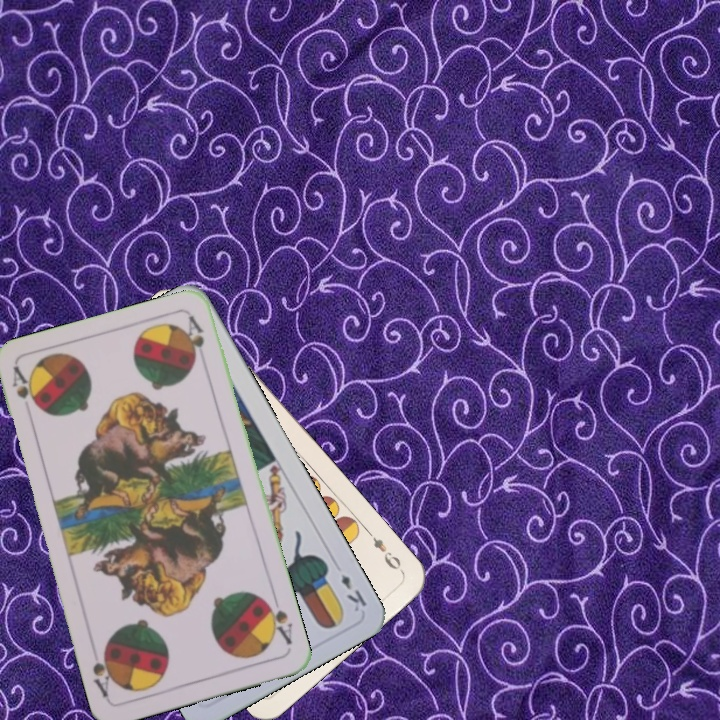E9: (363, 526, 406, 575)
EK: (337, 570, 369, 615)
SA: (259, 595, 295, 648), (8, 363, 40, 411)
